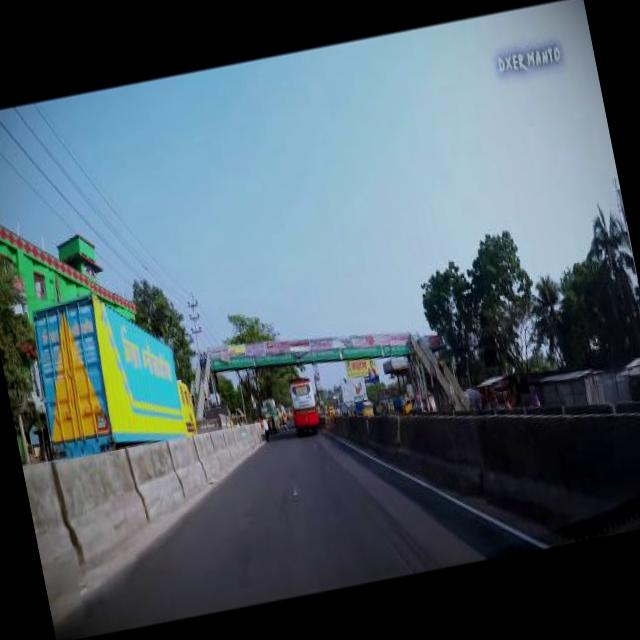bus: (284, 374, 320, 432), (258, 400, 279, 432)
truck: (20, 274, 198, 458), (352, 396, 372, 414)
